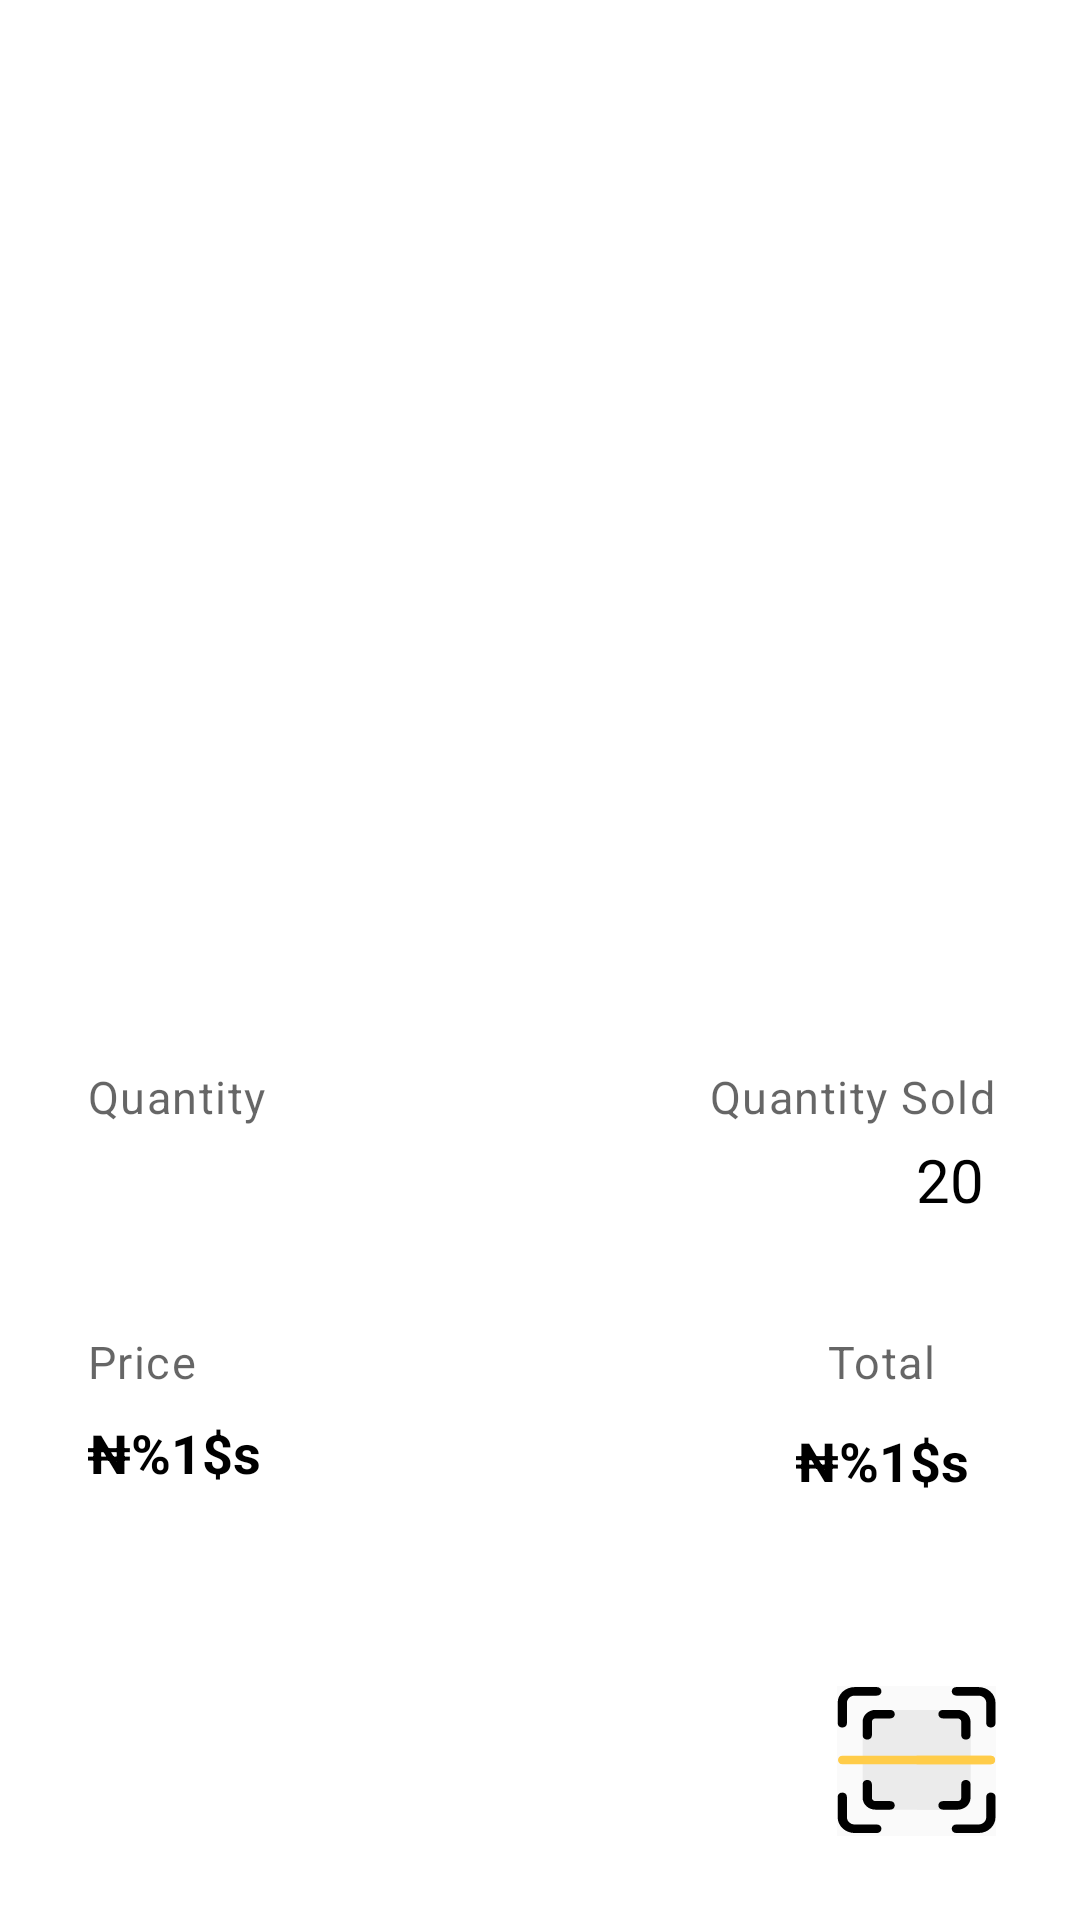

Named icons in this screenshot (1080x1920) and their bounding boxes, (x1, y1, x2, y2):
scanner: (837, 1687, 996, 1833)
